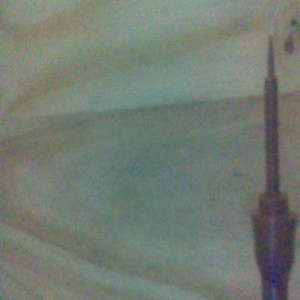solder: (250, 35, 300, 300)
